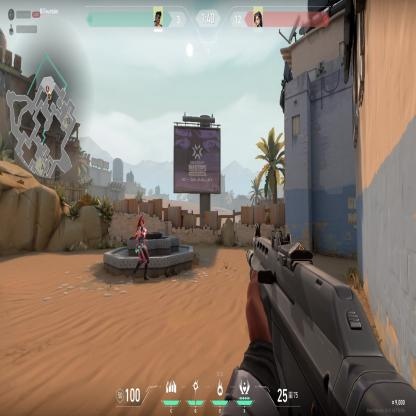enemy: (128, 214, 152, 283)
